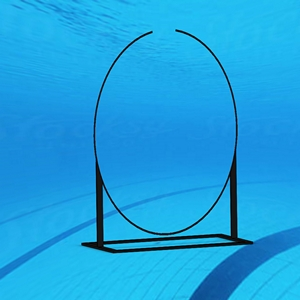circle: (80, 28, 255, 257)
